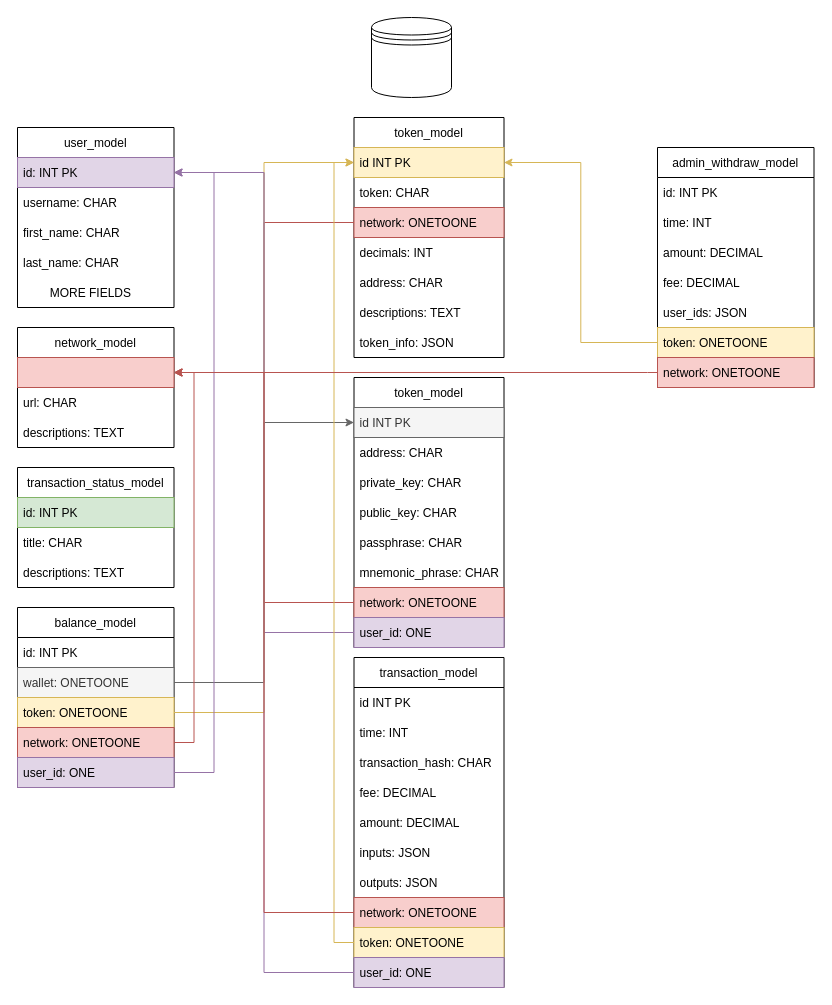
Image size: 832x1005. Some labels were removed from this diagram. The centre of each missing label's shape, as x and y in pixels:
network: CHAR PK: (x=95, y=372)
wallet_system: (x=411, y=57)
